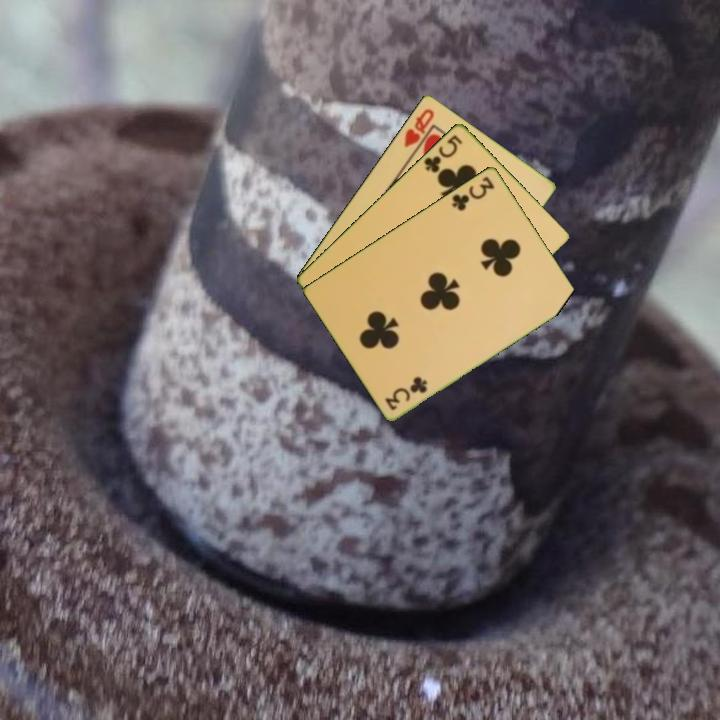3c: (448, 172, 497, 214), (382, 373, 430, 413)
5c: (420, 131, 465, 176)
Qh: (400, 105, 437, 150)
